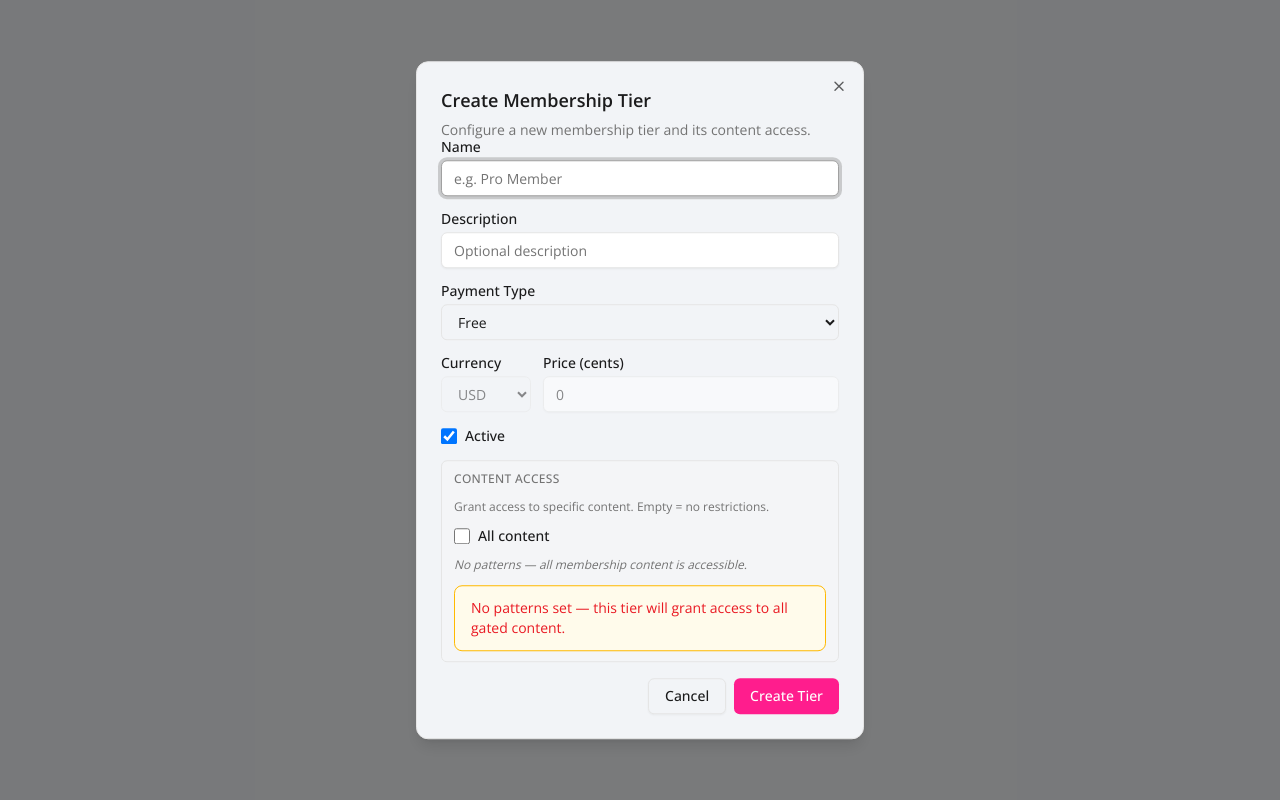
Test: TierFormDialog › shows error message when fetch returns 400
This screenshot has width=1280, height=800.
Type "Bad Tier" into the field labelled "Name" at (640, 178), box x1=441 y1=160 x2=839 y2=196
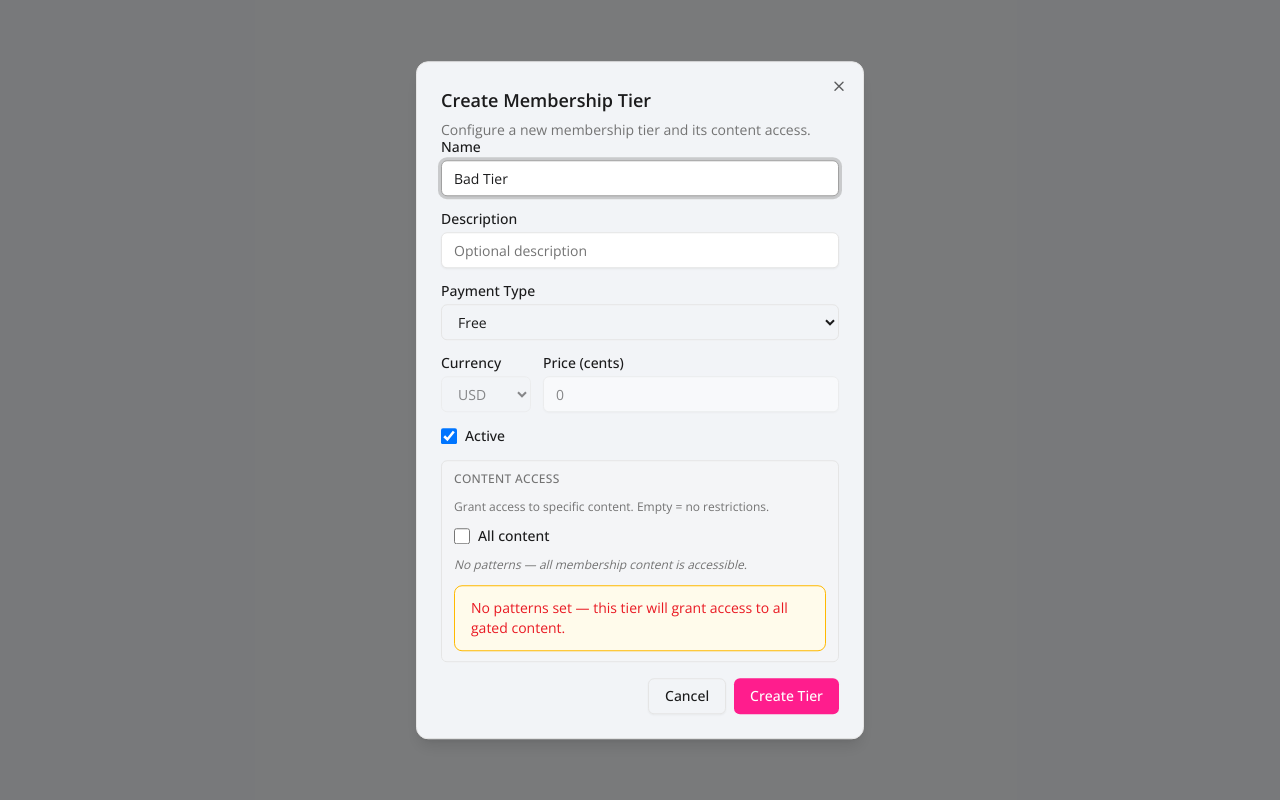
Select "One-time" in the dropdown labelled "Payment Type" at (640, 322), box x1=441 y1=304 x2=839 y2=340
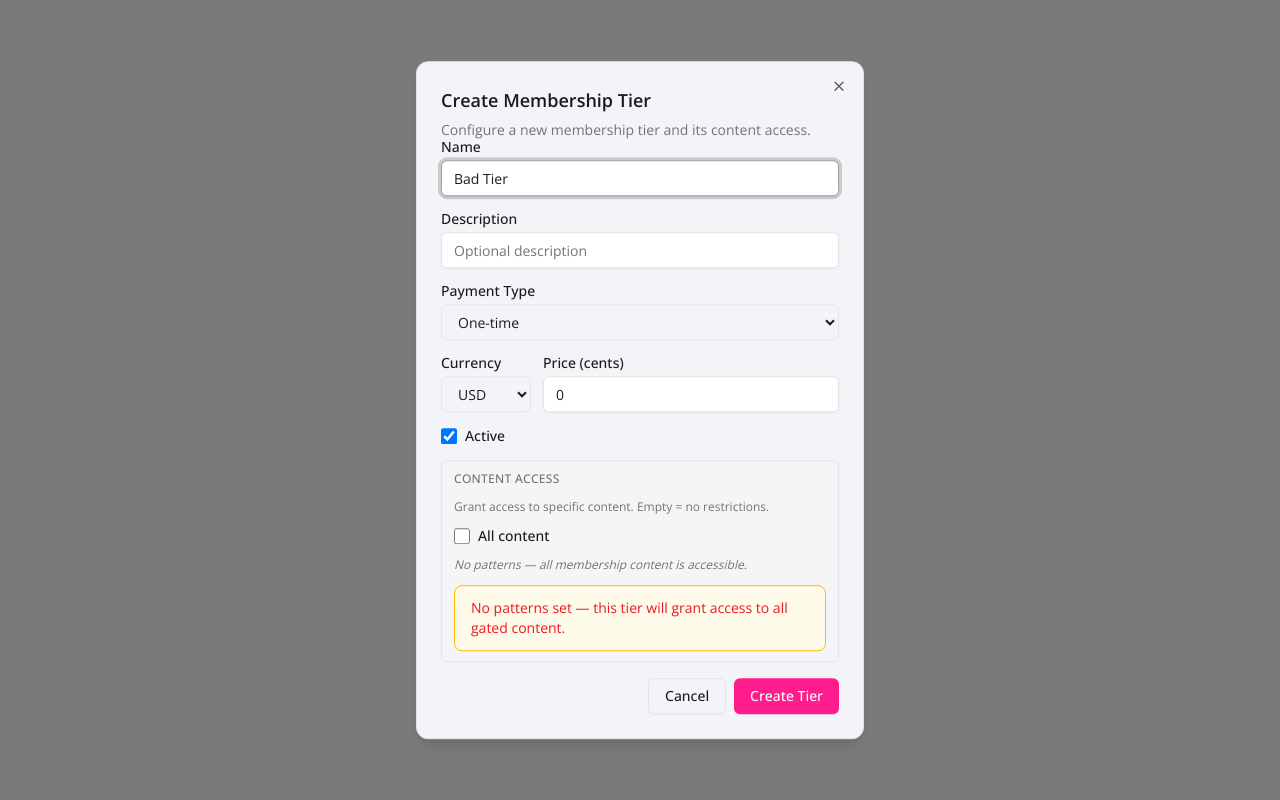
Click the button "Create Tier" at (787, 696), box x1=734 y1=678 x2=839 y2=714
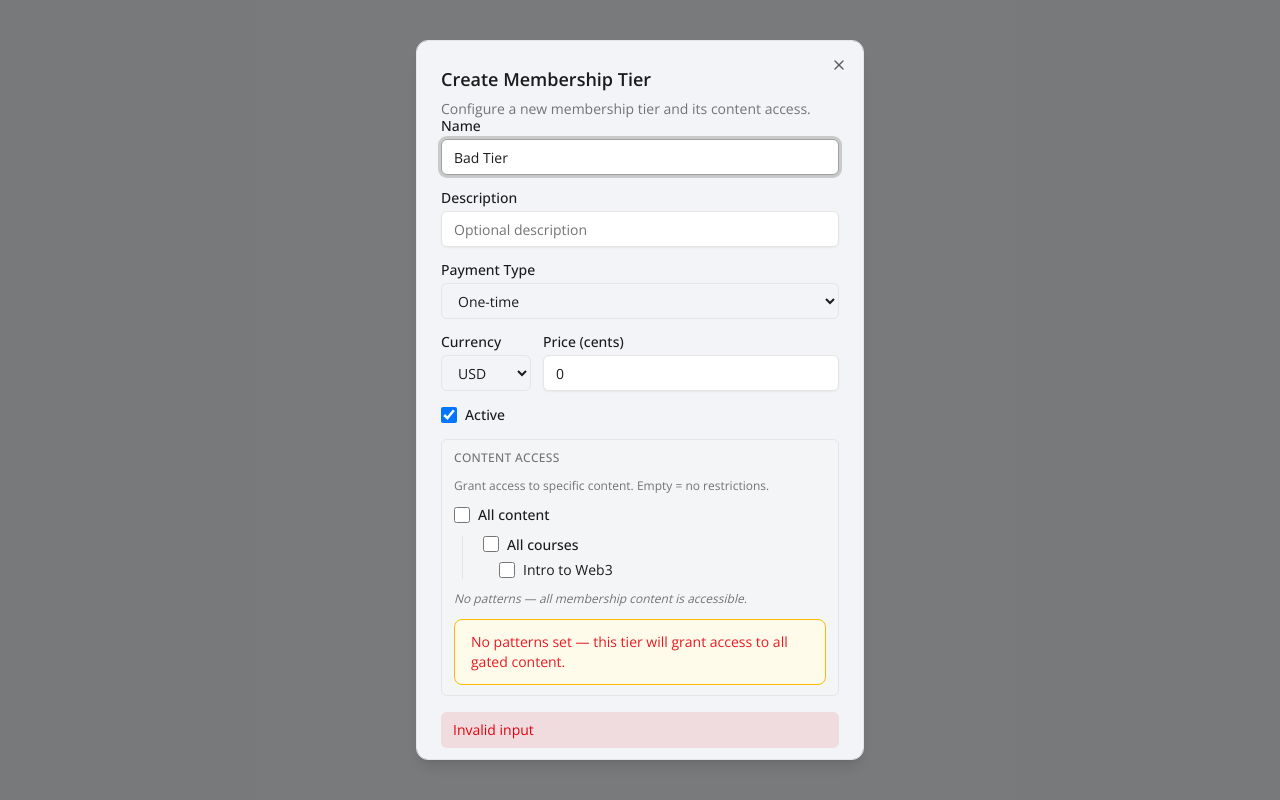
Now the text "Invalid input" is shown, box x1=441 y1=712 x2=839 y2=748
